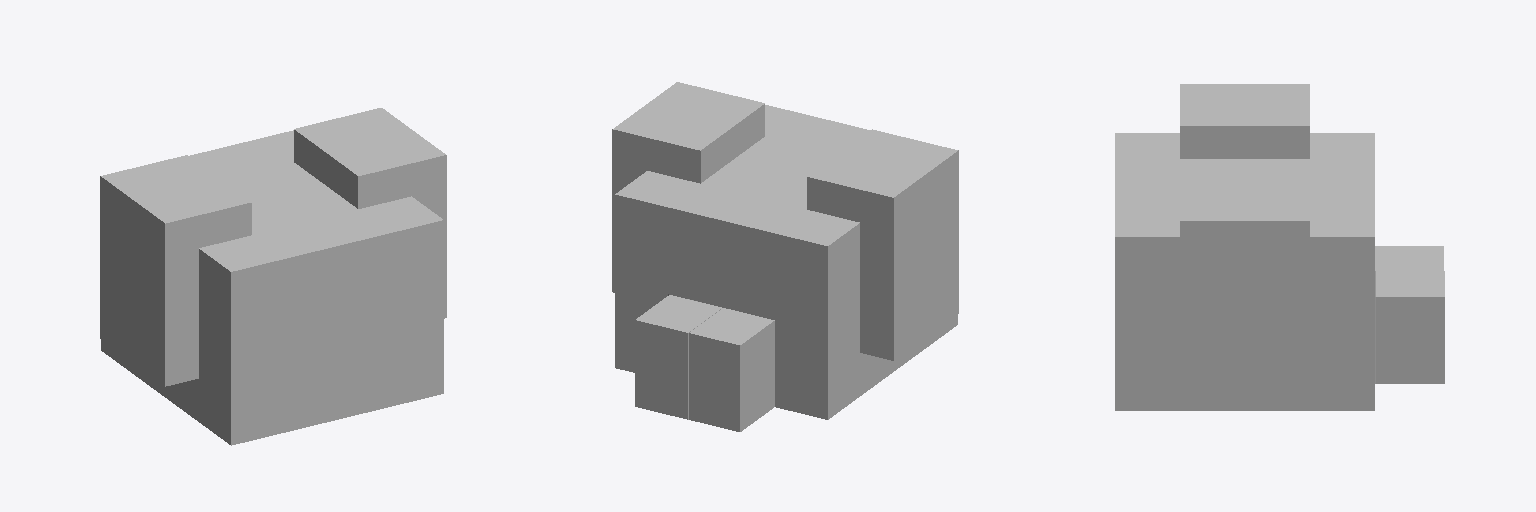
Rendered from milaHEAD.obj.
The picture shows the model from 3 angles: view 1: azimuth 30°, elevation 25°; view 2: azimuth 150°, elevation 25°; view 3: azimuth 270°, elevation 25°; orthographic projection.
Visible parts, largest first — view 1: Cube; view 2: Cube; view 3: Cube.
Boxes of the visible parts, box(x1,y1,x2,y2) form: Cube: box(100, 108, 446, 445); Cube: box(612, 82, 958, 431); Cube: box(1115, 84, 1444, 410).
Bounding box in the file's own units: 1.64 × 1.15 × 1.66.